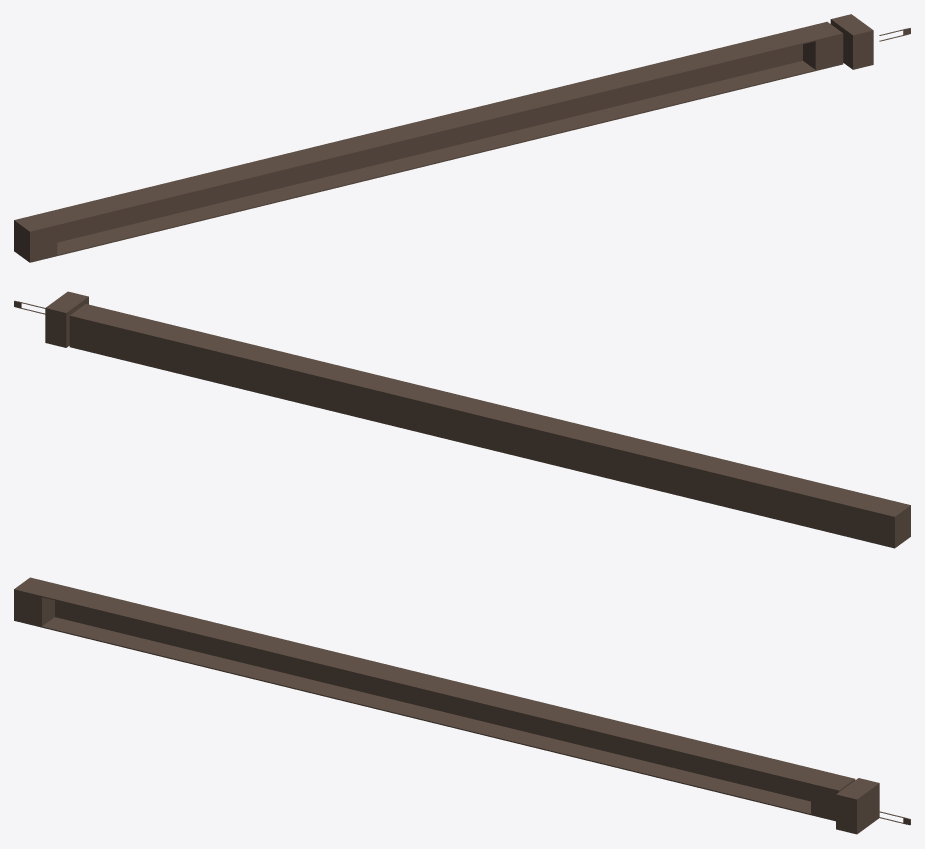
File: drawer_back_007.obj
3 renders of one model, top to bottom at view 1: azimuth 30°, elevation 25°; view 2: azimuth 150°, elevation 25°; view 3: azimuth 330°, elevation 25°, orthographic.
Size of the model in its own units: 32 by 1.19 by 1.4.
